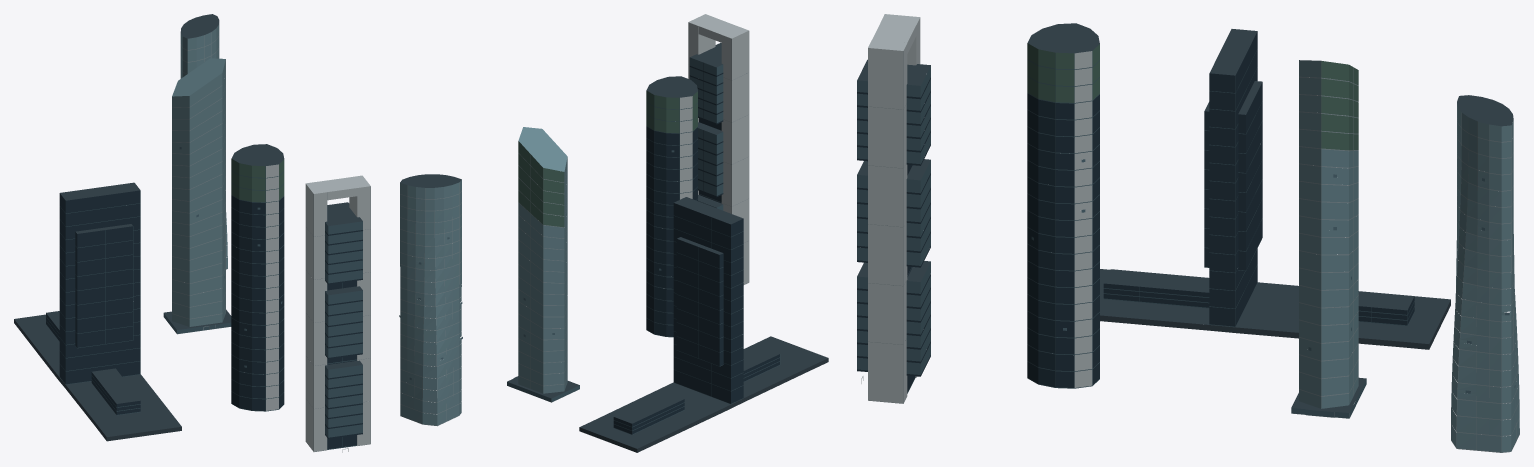
The model's file is cuatro-torres-far.glb.
3 renders of one model, left to right at view 1: azimuth 30°, elevation 25°; view 2: azimuth 150°, elevation 25°; view 3: azimuth 270°, elevation 25°, orthographic. The views are drawn at different scales.
Visible parts, largest first — view 1: cuatro-torres-0-glassDark, cuatro-torres-0-glassBright, cuatro-torres-0-metal, cuatro-torres-0-glass, cuatro-torres-0-roof, cuatro-torres-0-seam, cuatro-torres-0-crown; view 2: cuatro-torres-0-glassBright, cuatro-torres-0-glassDark, cuatro-torres-0-roof, cuatro-torres-0-metal, cuatro-torres-0-glass, cuatro-torres-0-crown, cuatro-torres-0-seam; view 3: cuatro-torres-0-glassBright, cuatro-torres-0-glassDark, cuatro-torres-0-metal, cuatro-torres-0-roof, cuatro-torres-0-glass, cuatro-torres-0-crown, cuatro-torres-0-seam.
Boxes of the visible parts, x1=… form: cuatro-torres-0-glassDark: x1=46, y1=190, x2=362, y2=449; cuatro-torres-0-glassBright: x1=172, y1=23, x2=227, y2=326; cuatro-torres-0-metal: x1=203, y1=164, x2=370, y2=452; cuatro-torres-0-glass: x1=46, y1=166, x2=362, y2=449; cuatro-torres-0-roof: x1=14, y1=14, x2=362, y2=441; cuatro-torres-0-seam: x1=167, y1=32, x2=370, y2=451; cuatro-torres-0-crown: x1=231, y1=158, x2=284, y2=202; cuatro-torres-0-glassBright: x1=399, y1=127, x2=567, y2=425; cuatro-torres-0-glassDark: x1=613, y1=62, x2=779, y2=434; cuatro-torres-0-roof: x1=400, y1=43, x2=828, y2=452; cuatro-torres-0-metal: x1=680, y1=14, x2=748, y2=284; cuatro-torres-0-glass: x1=507, y1=57, x2=780, y2=434; cuatro-torres-0-crown: x1=518, y1=90, x2=697, y2=227; cuatro-torres-0-seam: x1=400, y1=31, x2=749, y2=426; cuatro-torres-0-glassBright: x1=1299, y1=60, x2=1519, y2=452; cuatro-torres-0-glassDark: x1=857, y1=31, x2=1414, y2=392; cuatro-torres-0-metal: x1=861, y1=14, x2=1092, y2=403; cuatro-torres-0-roof: x1=857, y1=23, x2=1513, y2=412; cuatro-torres-0-glass: x1=857, y1=49, x2=1414, y2=418; cuatro-torres-0-crown: x1=1027, y1=43, x2=1358, y2=150; cuatro-torres-0-seam: x1=868, y1=51, x2=1519, y2=452.
Size of the model in its own units: 276 by 249 by 423.
